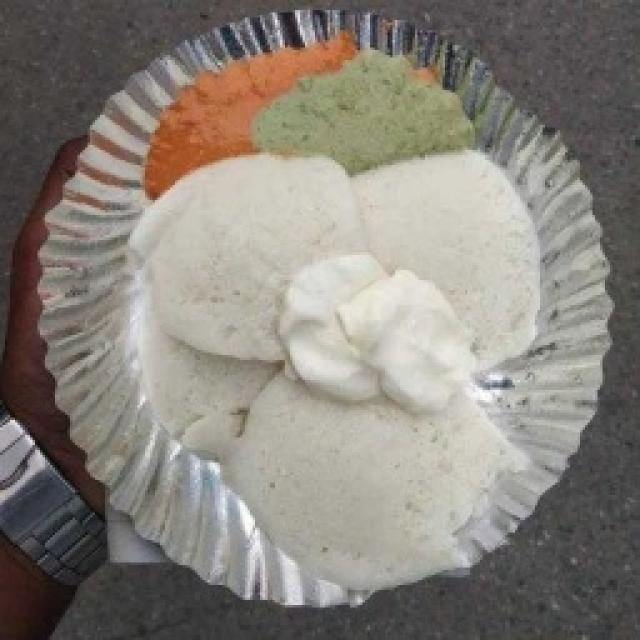idli: (146, 222, 500, 493)
